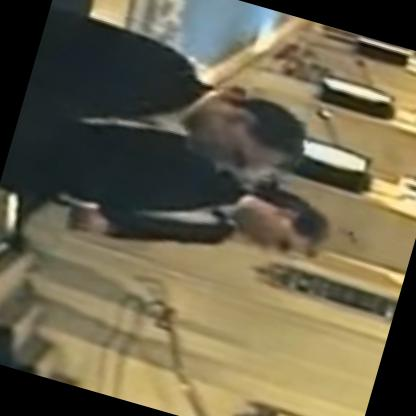Human Body: (0, 93, 346, 305), (19, 0, 328, 198)
